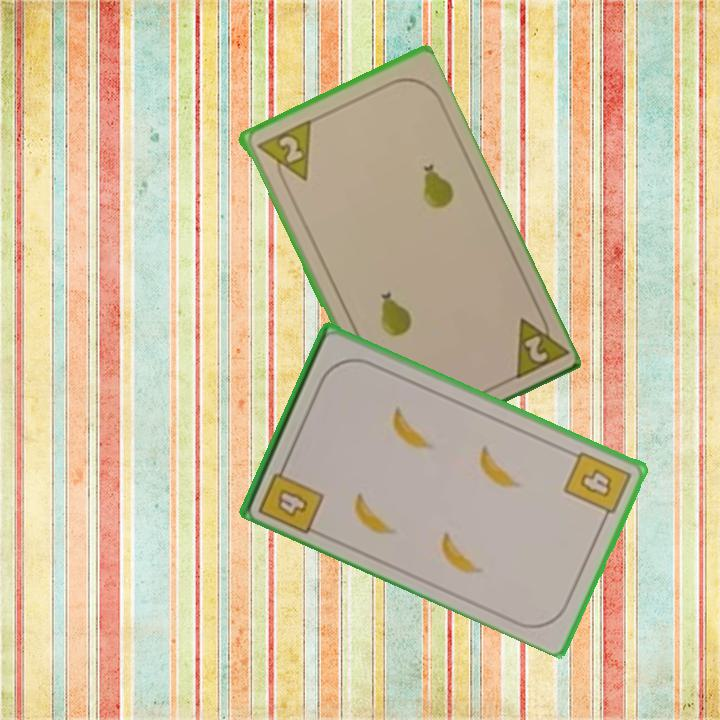2p: (507, 304, 568, 383), (252, 116, 314, 191)
4b: (560, 447, 634, 525), (255, 456, 327, 536)
